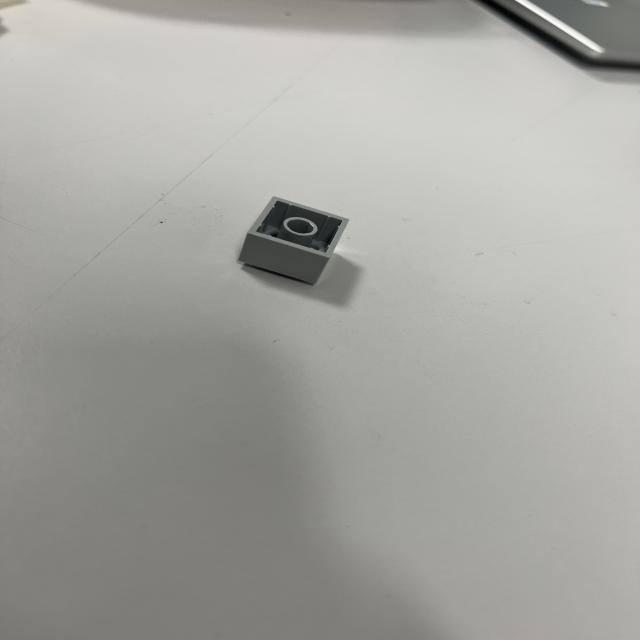C2x2x1: (237, 197, 353, 287)
